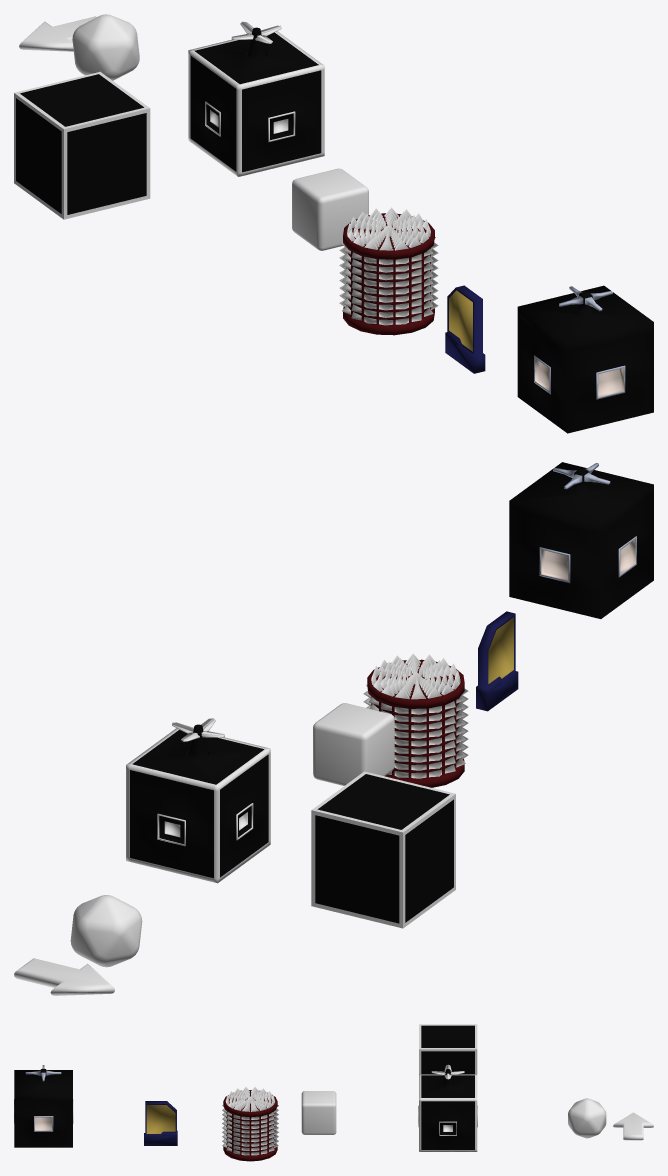
The model's file is elevator.glb.
3 renders of one model, top to bottom at view 1: azimuth 30°, elevation 25°; view 2: azimuth 150°, elevation 25°; view 3: azimuth 270°, elevation 25°, orthographic. The views are drawn at different scales.
Parts seen in each view (by area): view 1: Cube, elevator_bottom, spikes, Cube.003, Cube.002, elevator, Cube.001, Icosphere, key, Plane, Cube.004; view 2: Cube, elevator_bottom, Cube.003, spikes, Cube.002, elevator, Cube.001, Icosphere, key, Plane, Cube.004; view 3: spikes, Cube, elevator_bottom, Cube.003, Cube.002, elevator, Cube.001, key, Icosphere, Plane, Cube.004.
Part boxes in pixels (box(x1,y1,x2,y2)): Cube: box(14, 71, 150, 219); elevator_bottom: box(517, 316, 653, 433); spikes: box(339, 207, 438, 335); Cube.003: box(188, 64, 324, 176); Cube.002: box(188, 31, 324, 100); elevator: box(517, 285, 653, 352); Cube.001: box(292, 168, 368, 250); Icosphere: box(72, 14, 139, 80); key: box(445, 285, 485, 373); Plane: box(19, 16, 96, 51); Cube.004: box(231, 21, 281, 59); Cube: box(311, 771, 455, 928); elevator_bottom: box(509, 494, 653, 618); Cube.003: box(126, 764, 270, 883); spikes: box(363, 653, 468, 787); Cube.002: box(126, 728, 270, 802); elevator: box(509, 462, 653, 532); Cube.001: box(313, 703, 394, 785); Icosphere: box(70, 895, 142, 967); key: box(476, 611, 518, 711); Plane: box(14, 958, 114, 995); Cube.004: box(172, 718, 224, 758); spikes: box(222, 1087, 278, 1161); Cube: box(419, 1024, 477, 1074); elevator_bottom: box(14, 1099, 73, 1147); Cube.003: box(418, 1105, 477, 1151); Cube.002: box(419, 1074, 477, 1107); elevator: box(14, 1070, 72, 1099); Cube.001: box(301, 1091, 336, 1134); key: box(144, 1101, 177, 1145); Icosphere: box(568, 1098, 606, 1138); Plane: box(613, 1112, 653, 1140); Cube.004: box(431, 1064, 464, 1087).
Size of the model in its own units: 6.06 by 3.41 by 21.88.
